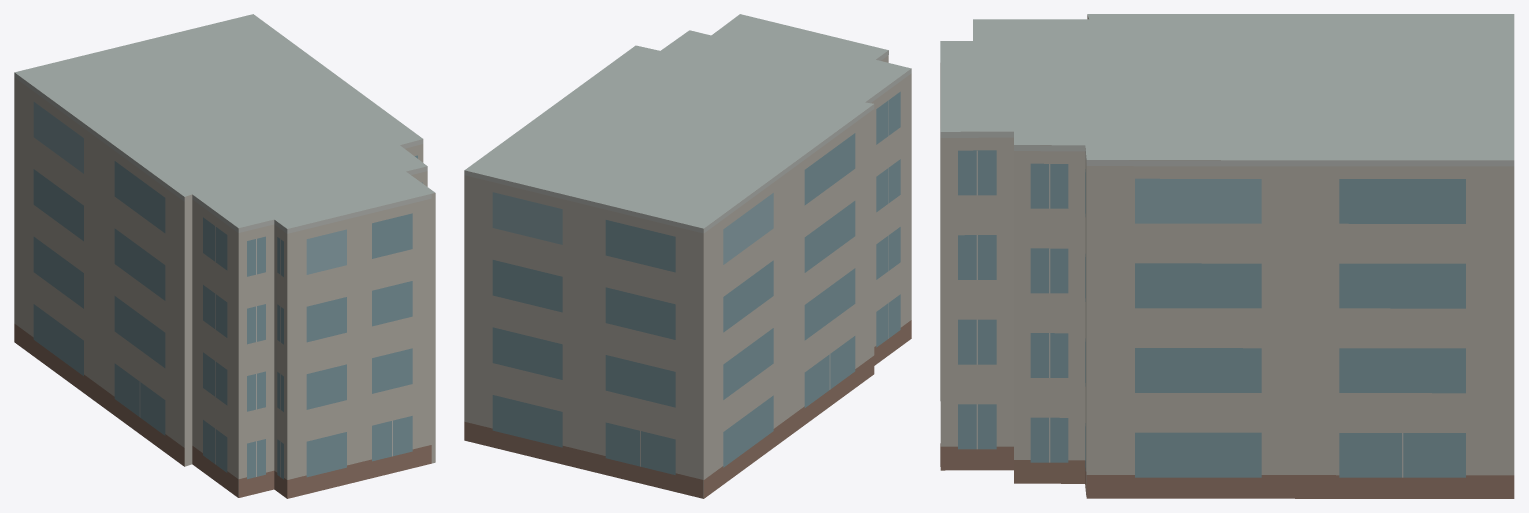
Rendered from survey-upis-32581667.glb.
3 renders of one model, left to right at view 1: azimuth 30°, elevation 25°; view 2: azimuth 150°, elevation 25°; view 3: azimuth 270°, elevation 25°, orthographic. The views are drawn at different scales.
Visible parts, largest first — view 1: survey-upis-32581667.tmp; view 2: survey-upis-32581667.tmp; view 3: survey-upis-32581667.tmp.
Part boxes in pixels (<box>): survey-upis-32581667.tmp: <box>14,14,435,498</box>; survey-upis-32581667.tmp: <box>464,14,911,498</box>; survey-upis-32581667.tmp: <box>940,14,1514,498</box>.
Bounding box in the file's own units: 12.57 × 13.55 × 20.84.
